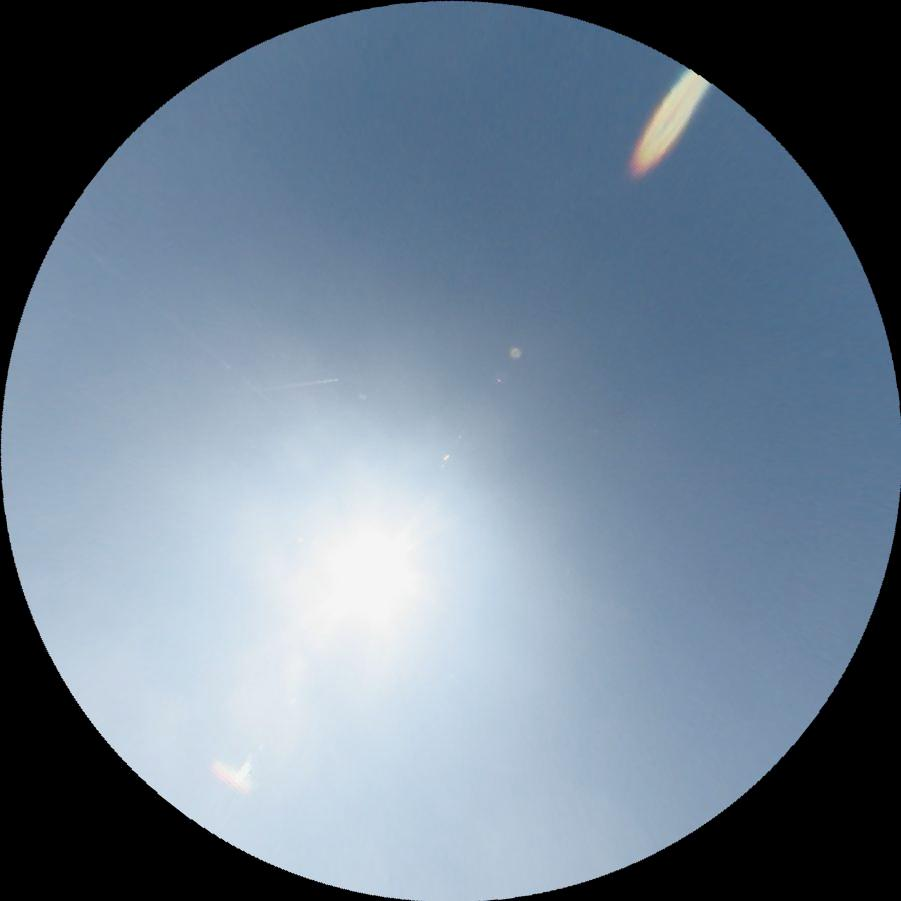contrail young: (264, 377, 337, 390)
sun: (290, 515, 423, 639)
